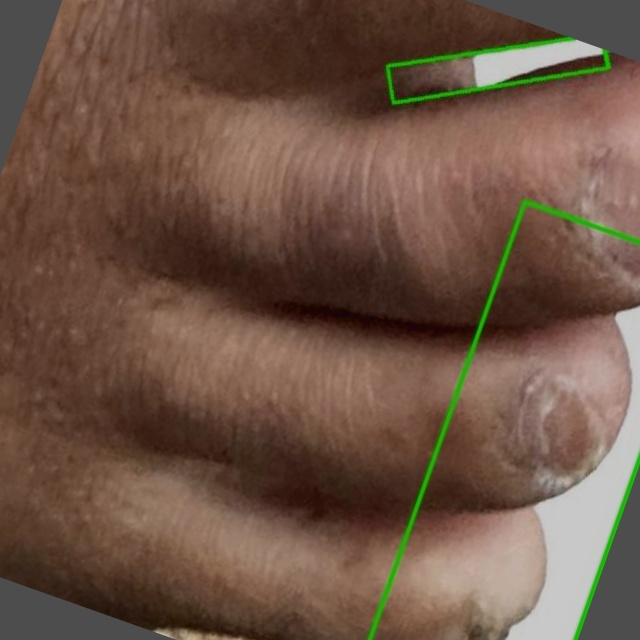Tinea Corporis: (371, 202, 639, 639), (388, 37, 608, 103)
